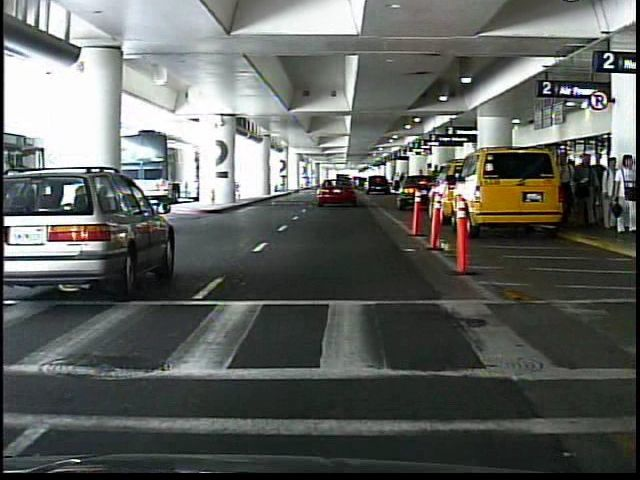person: (612, 154, 635, 232)
